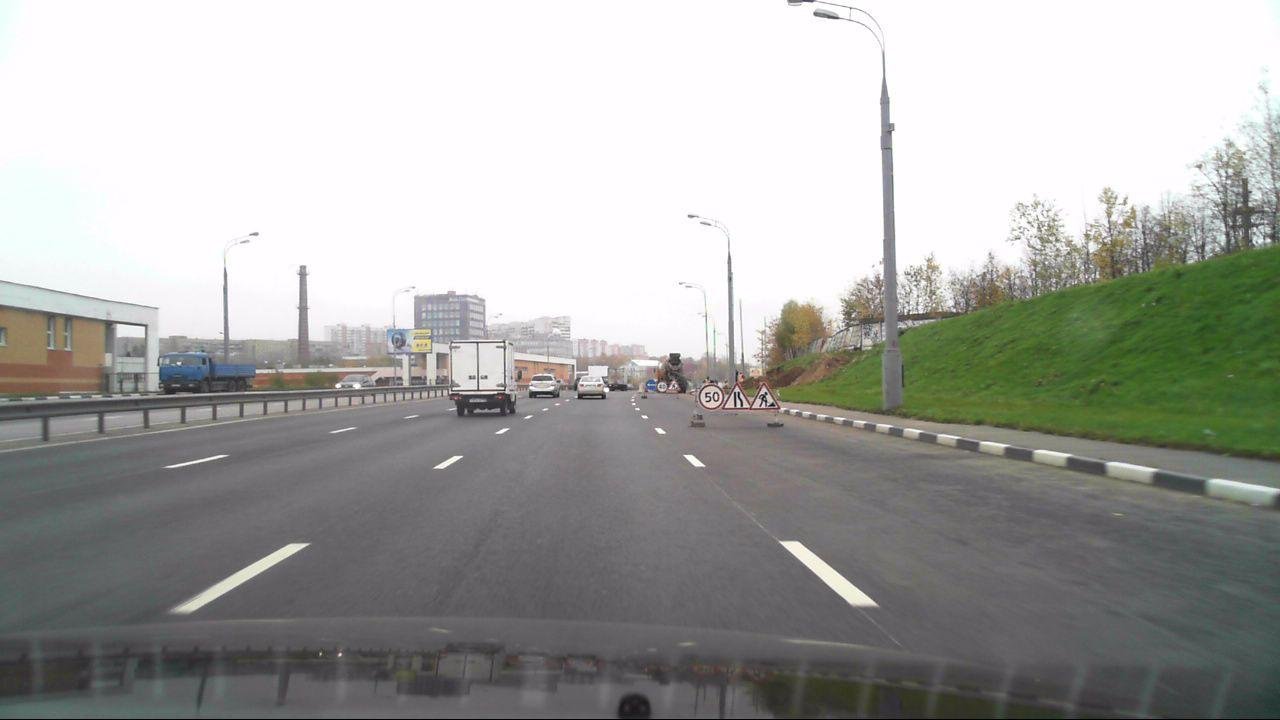1_20_2: (722, 383, 750, 410)
1_25: (749, 381, 784, 411), (668, 379, 681, 391)
3_24: (696, 382, 724, 412), (658, 381, 667, 392)
4_2_2: (646, 380, 657, 389)
